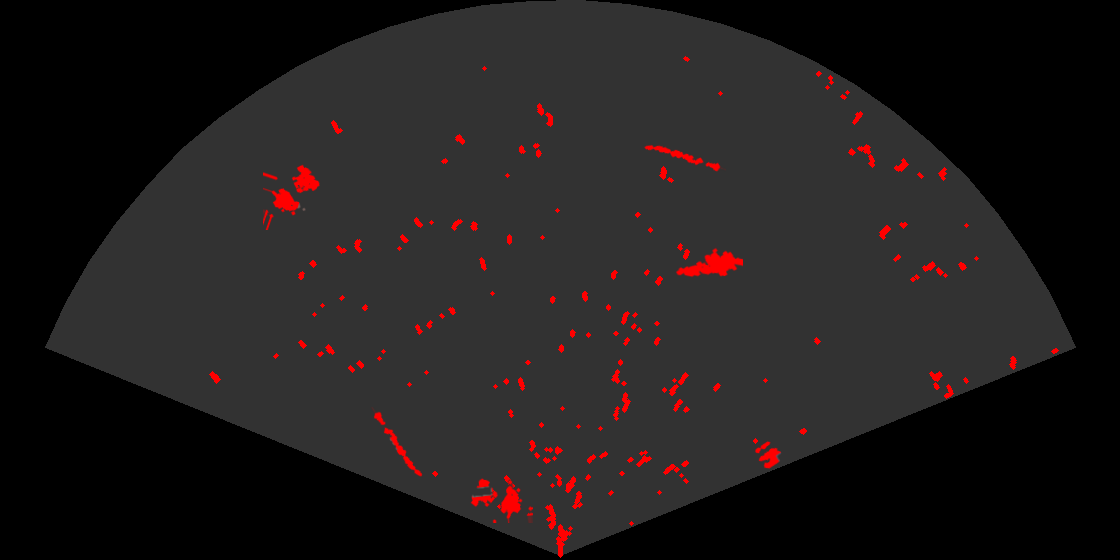ball: (753, 440, 783, 470)
cage: (263, 163, 321, 230), (469, 477, 533, 523)
chain: (370, 407, 424, 478), (642, 143, 726, 173)
frogman: (674, 246, 743, 279)
